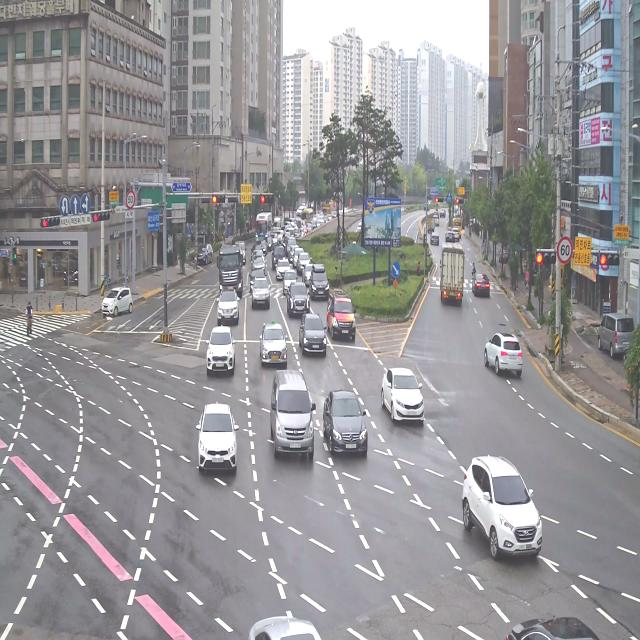Bus: (254, 206, 274, 247), (451, 211, 464, 238)
Car: (459, 448, 539, 580), (262, 370, 317, 470), (323, 390, 373, 466), (380, 362, 424, 432), (481, 326, 526, 394), (200, 400, 237, 480), (197, 317, 239, 383), (326, 291, 360, 350), (592, 312, 633, 358), (256, 320, 294, 369), (299, 309, 327, 360), (305, 259, 334, 303), (104, 285, 134, 318), (249, 274, 274, 313), (287, 282, 312, 320), (219, 283, 241, 320), (192, 238, 214, 269), (471, 269, 493, 297), (248, 267, 268, 290), (282, 271, 297, 297), (498, 240, 512, 267), (250, 255, 267, 275), (297, 250, 311, 271), (276, 259, 291, 278), (303, 261, 314, 284), (292, 248, 304, 269), (285, 238, 298, 255), (287, 245, 298, 265), (251, 243, 265, 257), (257, 238, 268, 255), (430, 231, 440, 248), (252, 249, 264, 263), (264, 236, 274, 251), (444, 230, 454, 243), (451, 227, 459, 241), (433, 213, 439, 226), (439, 208, 446, 218)
Truck: (440, 240, 470, 314), (215, 242, 248, 300), (271, 240, 285, 264), (427, 215, 435, 233)
